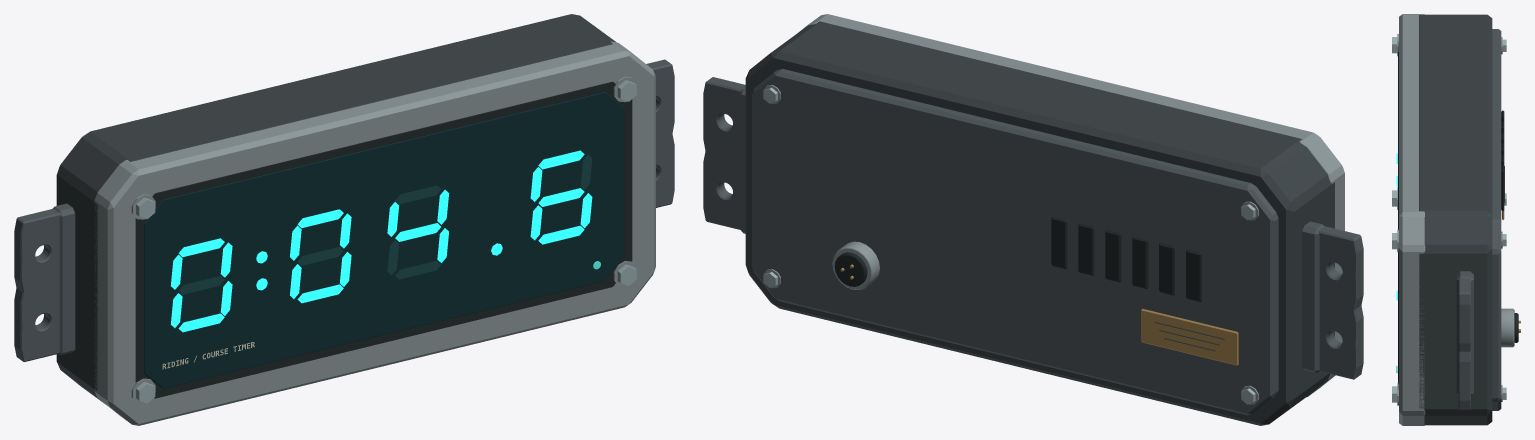
Rendered from wsc-prop-042-riding-timer-display.glb.
3 renders of one model, left to right at view 1: azimuth 30°, elevation 25°; view 2: azimuth 150°, elevation 25°; view 3: azimuth 270°, elevation 25°, orthographic. The views are drawn at different scales.
Visible parts, largest first — view 1: Front screen | petrol, Tumbled steel, Graphite | satin enamel, Gunmetal | powder coated, Seal black, Segment | bright cyan, Segment | unlit, Machine edges; view 2: Gunmetal | powder coated, Graphite | satin enamel, Tumbled steel, Seal black, Brass plate, Machine edges; view 3: Graphite | satin enamel, Tumbled steel, Gunmetal | powder coated, Seal black, Machine edges, Front screen | petrol.
Boxes of the visible parts, x1,y1,x2,y2 form: Front screen | petrol: (144, 92, 624, 388); Tumbled steel: (94, 41, 655, 425); Graphite | satin enamel: (56, 14, 616, 403); Gunmetal | powder coated: (14, 59, 674, 361); Seal black: (135, 81, 632, 398); Segment | bright cyan: (170, 150, 592, 332); Segment | unlit: (179, 154, 592, 294); Machine edges: (136, 80, 636, 403); Gunmetal | powder coated: (703, 69, 1363, 415); Graphite | satin enamel: (745, 21, 1334, 425); Tumbled steel: (763, 14, 1344, 404); Seal black: (834, 217, 1201, 301); Brass plate: (840, 264, 1238, 365); Machine edges: (763, 87, 1255, 404); Graphite | satin enamel: (1419, 14, 1504, 425); Tumbled steel: (1397, 14, 1514, 425); Gunmetal | powder coated: (1456, 29, 1501, 410); Seal black: (1398, 42, 1518, 388); Machine edges: (1392, 37, 1506, 402); Front screen | petrol: (1398, 52, 1398, 383).
Size of the model in its own units: 1.68 by 0.63 by 0.343.
